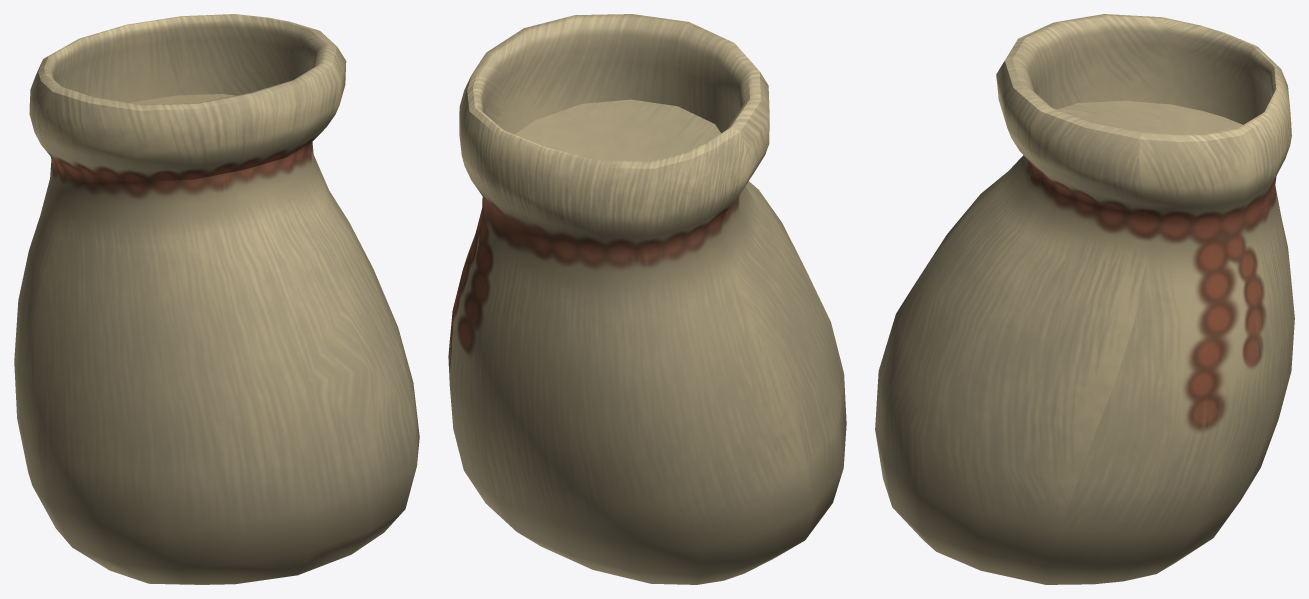
The model's file is Model_TexturaSacoAberto3_v1.fbx.
3 views of the same model, side by side, from view 1: azimuth 30°, elevation 25°; view 2: azimuth 150°, elevation 25°; view 3: azimuth 270°, elevation 25° (orthographic). The views are drawn at different scales.
Parts seen in each view (by area): view 1: saco parede.002; view 2: saco parede.002; view 3: saco parede.002.
Boxes of the visible parts, x1=… form: saco parede.002: x1=14, y1=14, x2=419, y2=584; saco parede.002: x1=448, y1=14, x2=846, y2=584; saco parede.002: x1=875, y1=14, x2=1294, y2=584.
Bounding box in the file's own units: 217 × 299 × 231.
